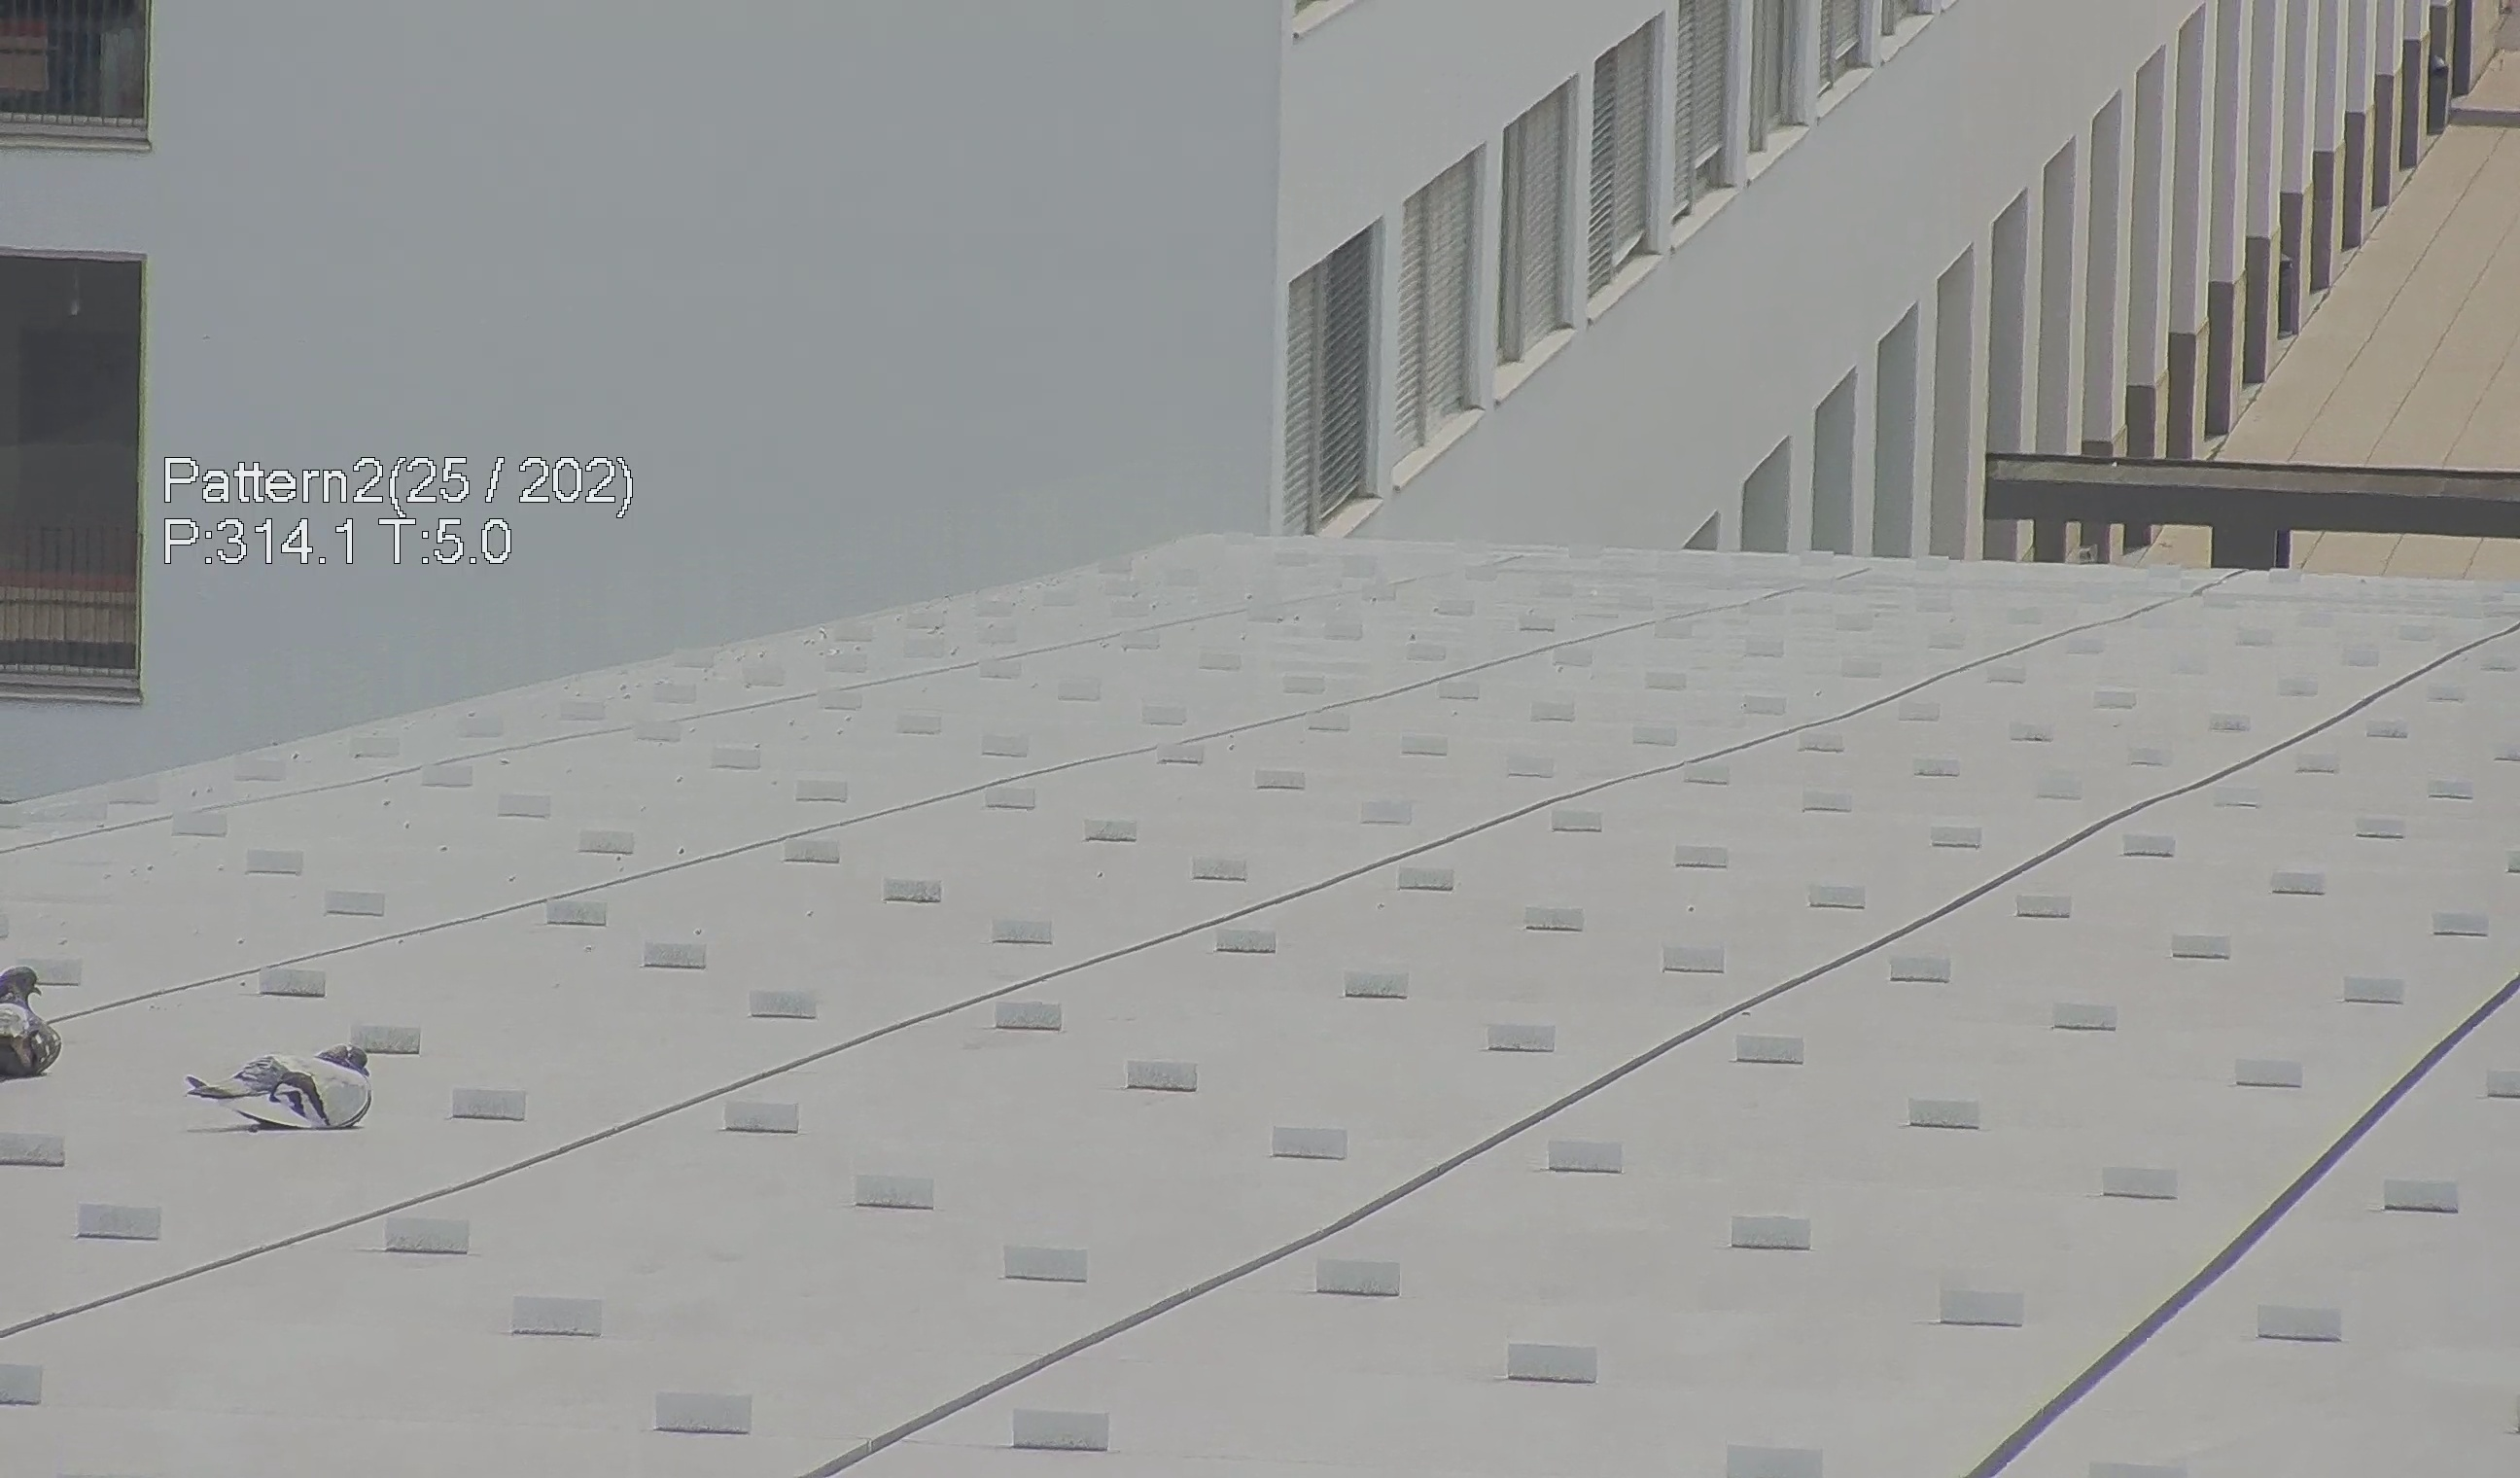Pigeon: (190, 1033, 397, 1142), (2, 957, 74, 1079)
